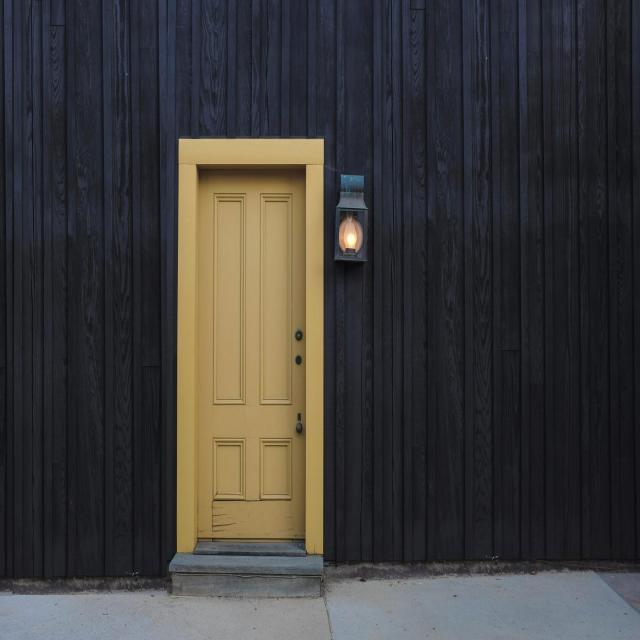close: (179, 145, 325, 550)
